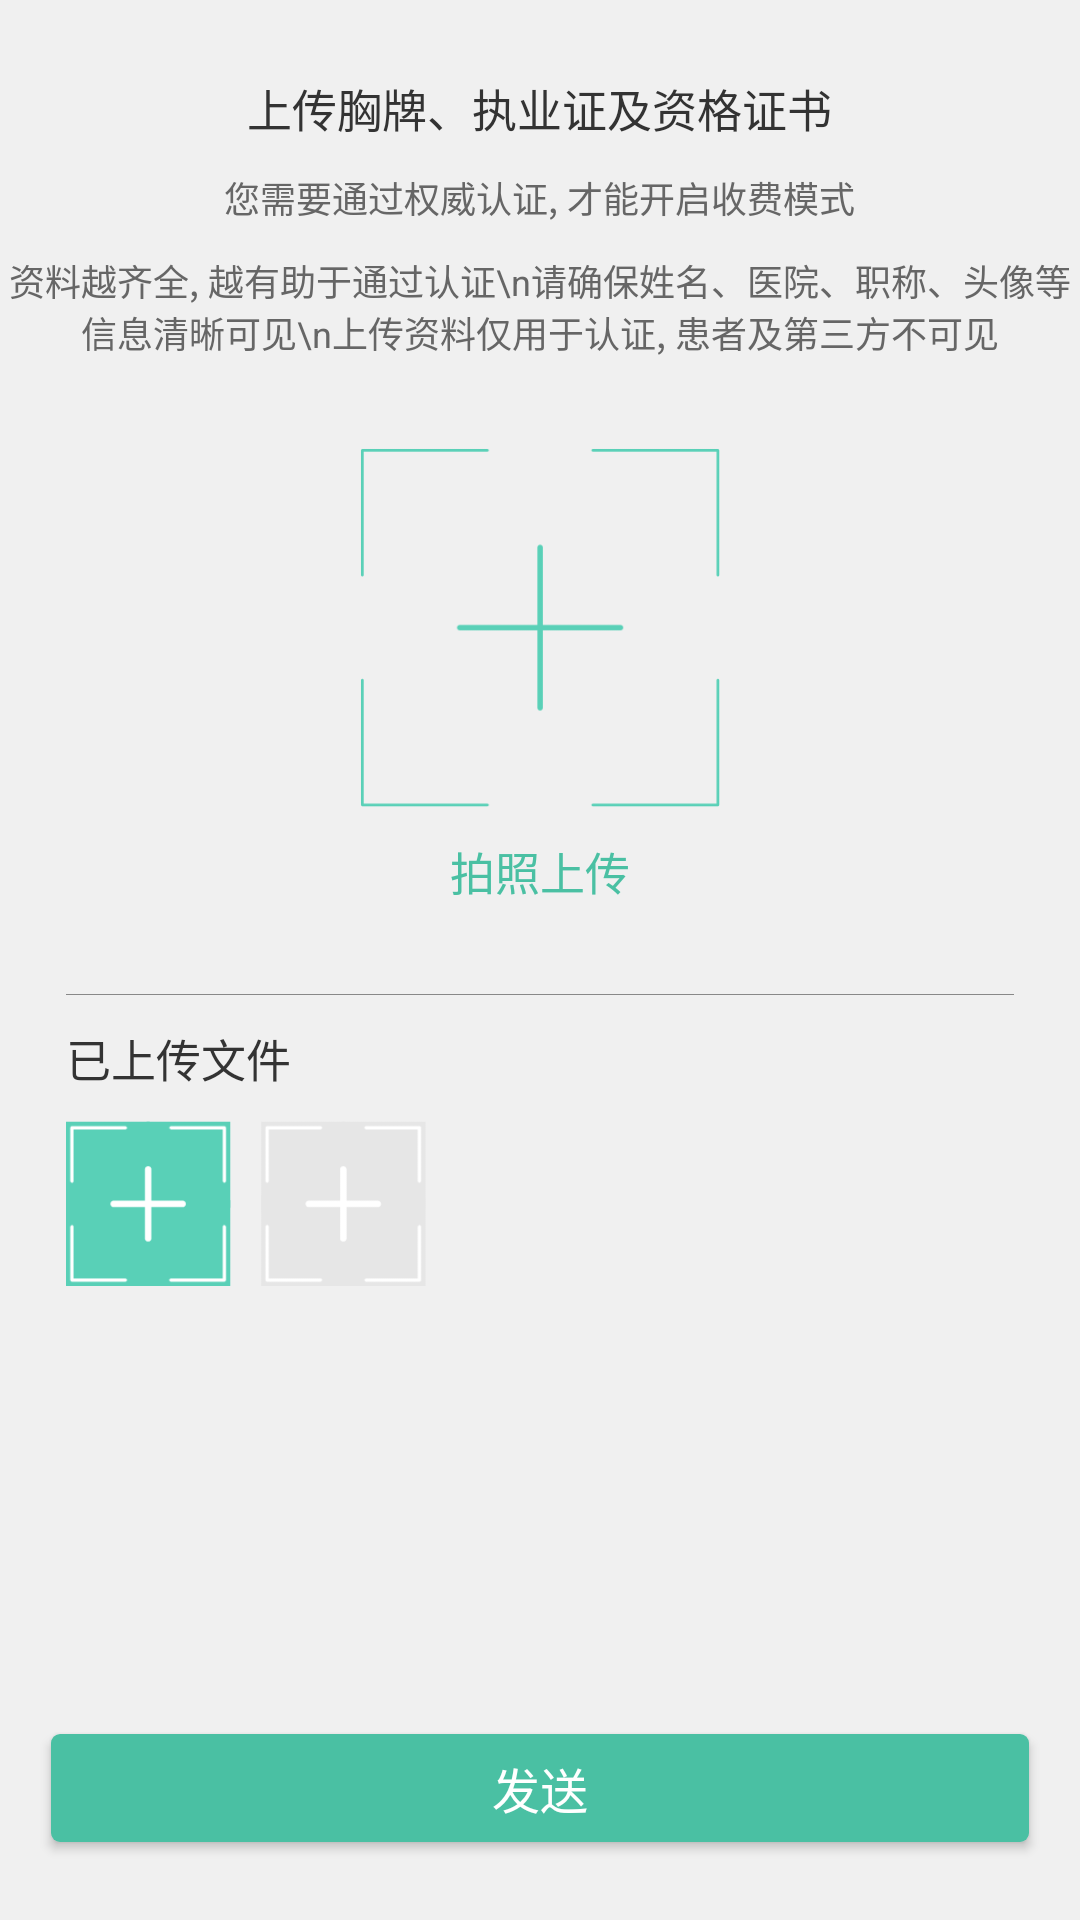

Icons on this 1080 × 1920 Android screen, each with the point to tap as (x,y):
dietitian add photo: (148,1203)
